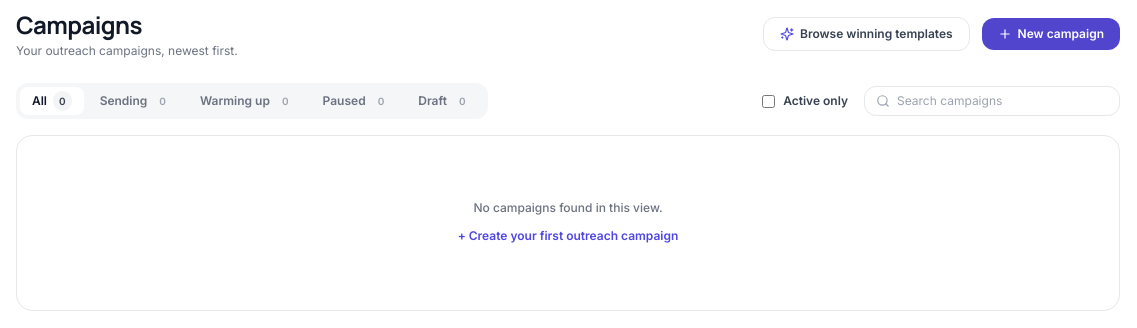
it: viewer can inspect shared graph without any mutation controls or context requests
Later steps or results of the test are not shown.
Click the button "Browse winning templates": {"x": 866, "y": 34} [763,17,970,51]
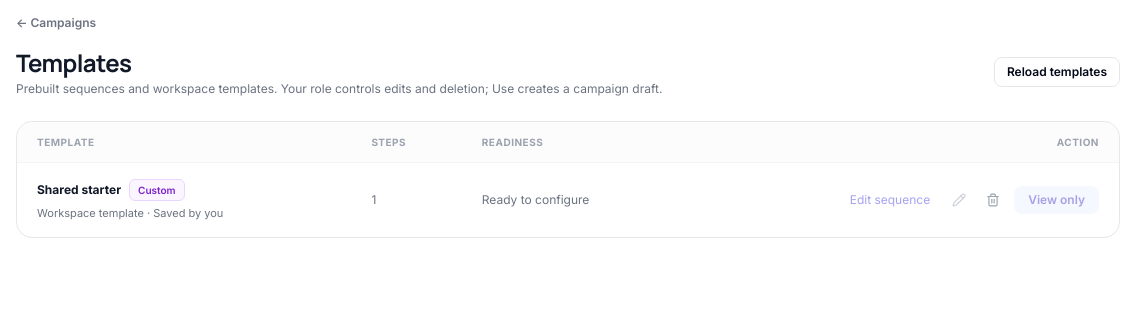
Now the text "Ready to configure" is shown, box [462,162,680,237]
Now the button "View only" is disabled, box [1014,186,1099,214]
Now the button named "Edit template details Shared starter" is disabled, box [946,187,972,213]
